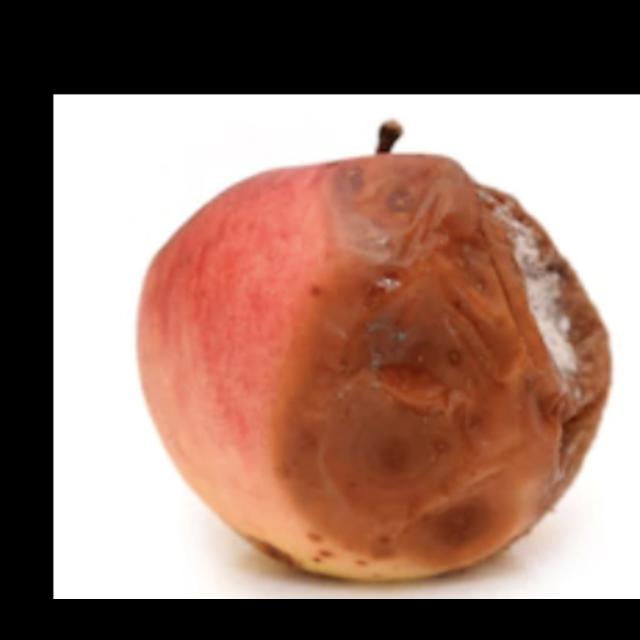Apel Tidak Segar: (131, 143, 615, 584)
